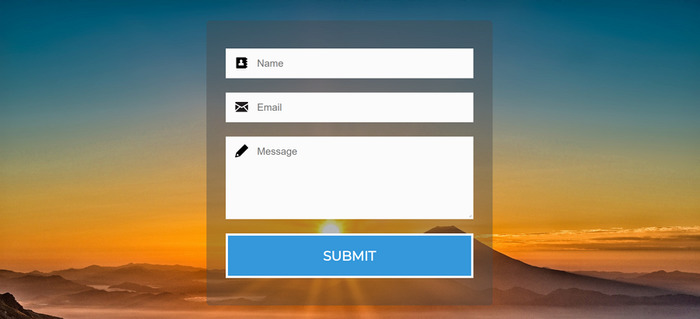_form_: (132, 1, 548, 319)
button: (224, 233, 475, 278)
field: (225, 136, 474, 219), (225, 48, 474, 79), (225, 92, 474, 122)
